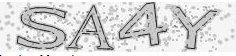4: (117, 1, 169, 50)
A: (67, 3, 113, 52)
S: (15, 4, 67, 51)
Y: (169, 4, 221, 52)
